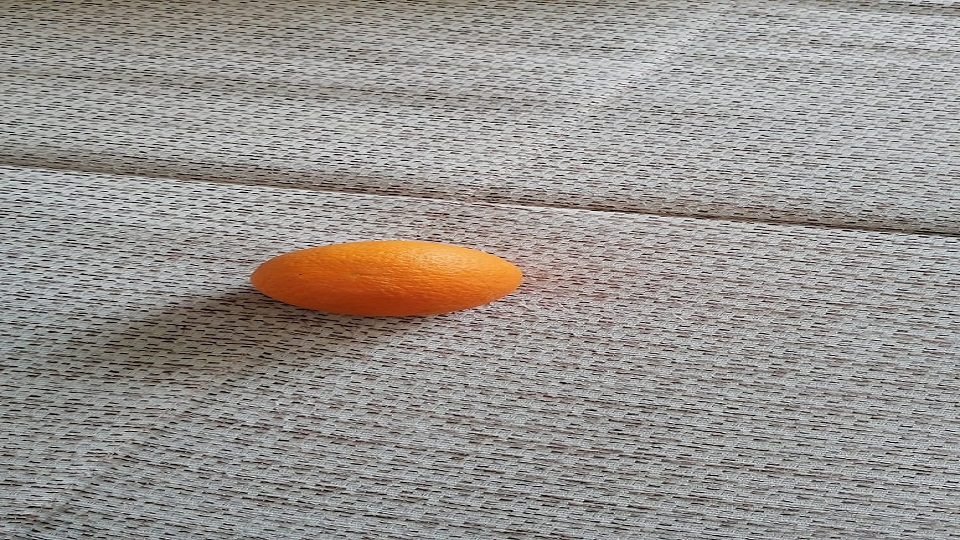portakal: (251, 239, 523, 318)
